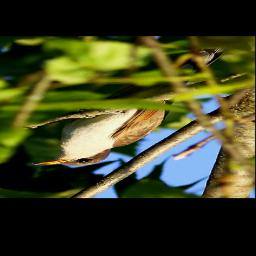Cuckoo: (27, 45, 230, 169)
